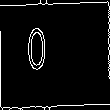O_S: (45, 28, 65, 82)
